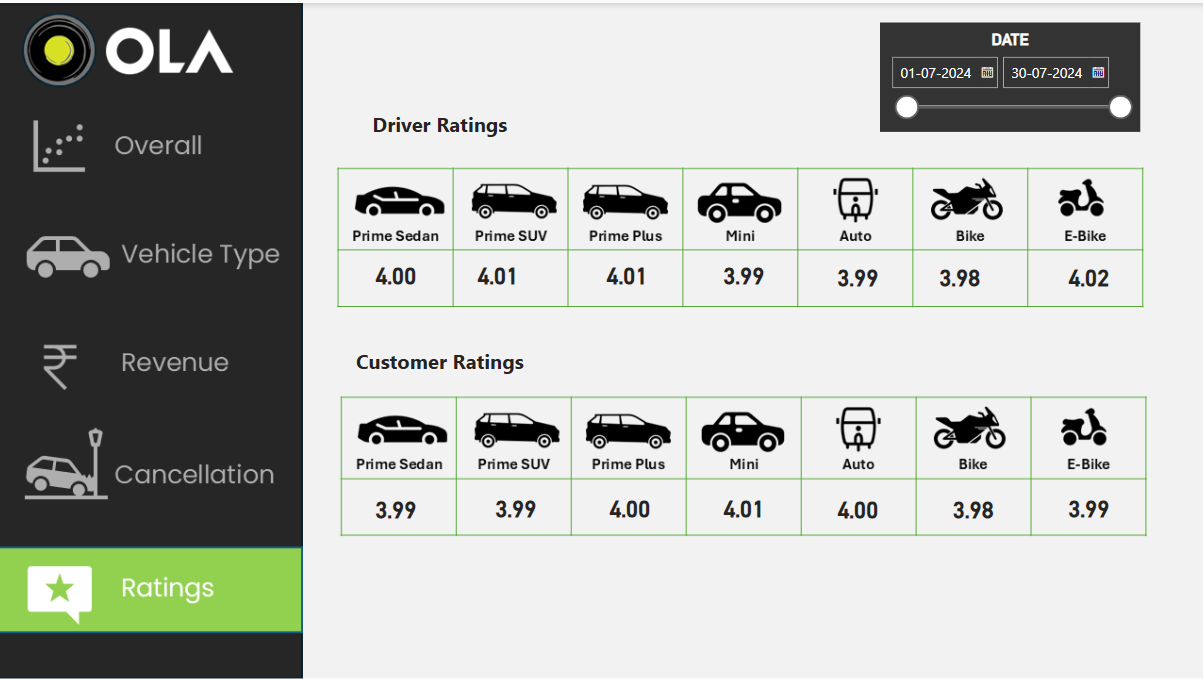

The page's visual inventory and layout, read from the dashboard file:
{"tool":"powerbi","page":{"name":"Ratings","canvas":[1280,720],"ordinal":4},"visuals":[{"type":"actionButton","box":[0,220.3,326.1,92.8],"z":0},{"type":"actionButton","box":[0,336.2,326.1,92.8],"z":1000},{"type":"actionButton","box":[0,455.1,326.1,92.8],"z":2000},{"type":"actionButton","box":[0,108.7,326.1,92.8],"z":3000},{"type":"card","fields":{"Values":["Avg(Bookings-40000-Rows.Driver_Ratings)"]},"box":[368,266,108,46],"z":3001},{"type":"card","fields":{"Values":["Avg(Bookings-40000-Rows.Driver_Ratings)"]},"box":[476,266,108,46],"z":3002},{"type":"card","fields":{"Values":["Avg(Bookings-40000-Rows.Driver_Ratings)"]},"box":[616,264,102,48],"z":3003},{"type":"card","fields":{"Values":["Avg(Bookings-40000-Rows.Driver_Ratings)"]},"box":[736,266,108,46],"z":3004},{"type":"card","fields":{"Values":["Avg(Bookings-40000-Rows.Driver_Ratings)"]},"box":[858,268,108,46],"z":3005},{"type":"card","fields":{"Values":["Avg(Bookings-40000-Rows.Driver_Ratings)"]},"box":[966,268,108,46],"z":3006},{"type":"card","fields":{"Values":["Avg(Bookings-40000-Rows.Driver_Ratings)"]},"box":[1102,268,108,46],"z":3007},{"type":"textbox","box":[368,108,202,56],"z":3008},{"type":"textbox","box":[368,360,202,50],"z":3009},{"type":"card","fields":{"Values":["Avg(Bookings-40000-Rows.Customer_Rating)"]},"box":[368,514,108,46],"z":3010},{"type":"card","fields":{"Values":["Avg(Bookings-40000-Rows.Customer_Rating)"]},"box":[494,512,108,46],"z":3011},{"type":"card","fields":{"Values":["Avg(Bookings-40000-Rows.Customer_Rating)"]},"box":[1102,512,108,46],"z":3012},{"type":"card","fields":{"Values":["Avg(Bookings-40000-Rows.Customer_Rating)"]},"box":[980,514,108,46],"z":3013},{"type":"card","fields":{"Values":["Avg(Bookings-40000-Rows.Customer_Rating)"]},"box":[858,514,108,46],"z":3014},{"type":"card","fields":{"Values":["Avg(Bookings-40000-Rows.Customer_Rating)"]},"box":[736,512,108,46],"z":3015},{"type":"card","fields":{"Values":["Avg(Bookings-40000-Rows.Customer_Rating)"]},"box":[616,512,108,46],"z":3016},{"type":"slicer","title":"DATE","fields":{"Values":["Bookings-40000-Rows.Date"]},"box":[936,20,276,116],"z":3017}]}

Visuals, with their boxes in screenshot pixels (x1, y1, x2, y2), scaled from the page's 1280x720 canvas onto the 1203x679 screenshot:
actionButton: (0,208,306,295)
actionButton: (0,317,306,405)
actionButton: (0,429,306,517)
actionButton: (0,103,306,190)
card - Avg(Bookings-40000-Rows.Driver_Ratings): (346,251,447,294)
card - Avg(Bookings-40000-Rows.Driver_Ratings): (447,251,549,294)
card - Avg(Bookings-40000-Rows.Driver_Ratings): (579,249,675,294)
card - Avg(Bookings-40000-Rows.Driver_Ratings): (692,251,793,294)
card - Avg(Bookings-40000-Rows.Driver_Ratings): (806,253,908,296)
card - Avg(Bookings-40000-Rows.Driver_Ratings): (908,253,1009,296)
card - Avg(Bookings-40000-Rows.Driver_Ratings): (1036,253,1137,296)
textbox: (346,102,536,155)
textbox: (346,340,536,387)
card - Avg(Bookings-40000-Rows.Customer_Rating): (346,485,447,528)
card - Avg(Bookings-40000-Rows.Customer_Rating): (464,483,566,526)
card - Avg(Bookings-40000-Rows.Customer_Rating): (1036,483,1137,526)
card - Avg(Bookings-40000-Rows.Customer_Rating): (921,485,1023,528)
card - Avg(Bookings-40000-Rows.Customer_Rating): (806,485,908,528)
card - Avg(Bookings-40000-Rows.Customer_Rating): (692,483,793,526)
card - Avg(Bookings-40000-Rows.Customer_Rating): (579,483,680,526)
"DATE" slicer: (880,19,1139,128)
